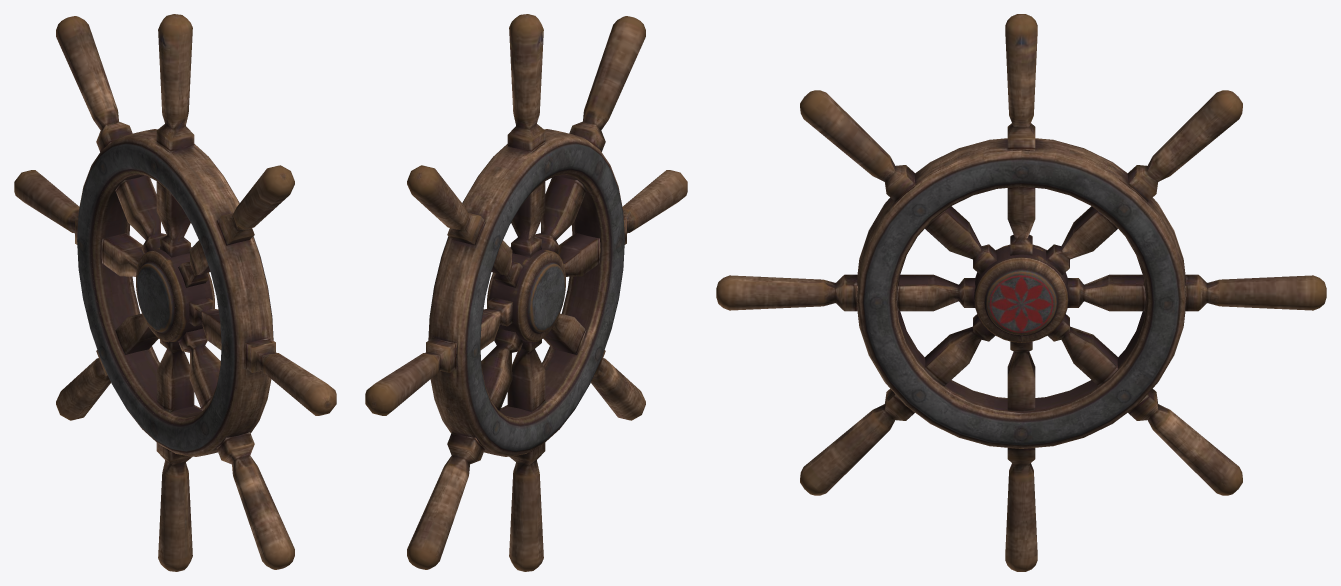
The model's file is ship_wheel_small.glb.
3 views of the same model, side by side, from view 1: azimuth 30°, elevation 25°; view 2: azimuth 150°, elevation 25°; view 3: azimuth 270°, elevation 25° (orthographic).
Parts seen in each view (by area): view 1: Low.001_Roda_0; view 2: Low.001_Roda_0; view 3: Low.001_Roda_0.
Part boxes in pixels (x1,y1,x2,y2): Low.001_Roda_0: (14, 14, 336, 571); Low.001_Roda_0: (365, 14, 687, 571); Low.001_Roda_0: (716, 14, 1326, 571).
Bounding box in the file's own units: 0.3109 × 3.58 × 3.58.
Materials: 1 (1 with a texture image).
